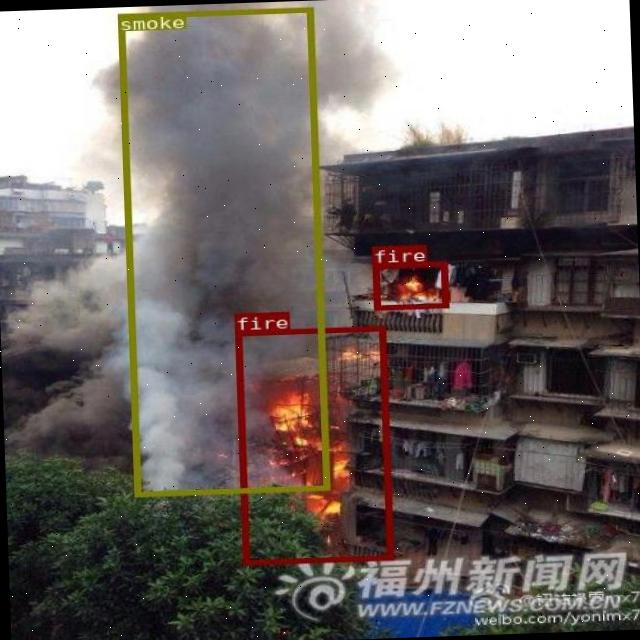fire: (235, 324, 392, 564), (372, 260, 447, 310)
smoke: (117, 6, 329, 496)
